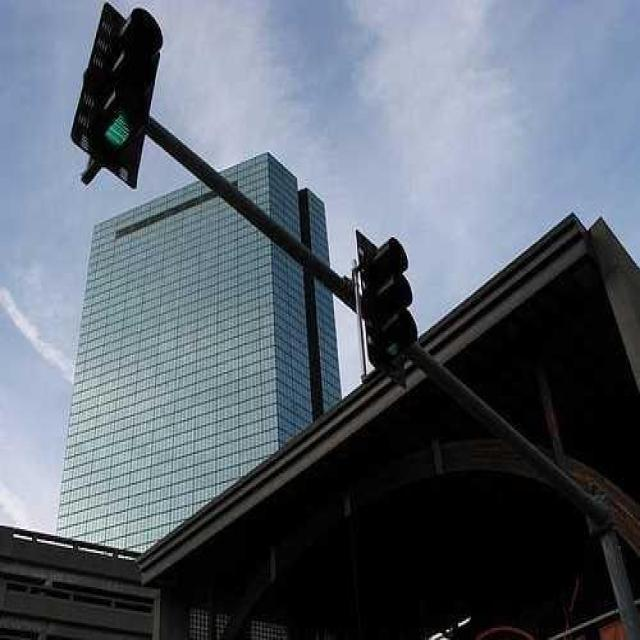Traffic Light -Green-: (74, 0, 168, 201), (355, 227, 422, 393)
